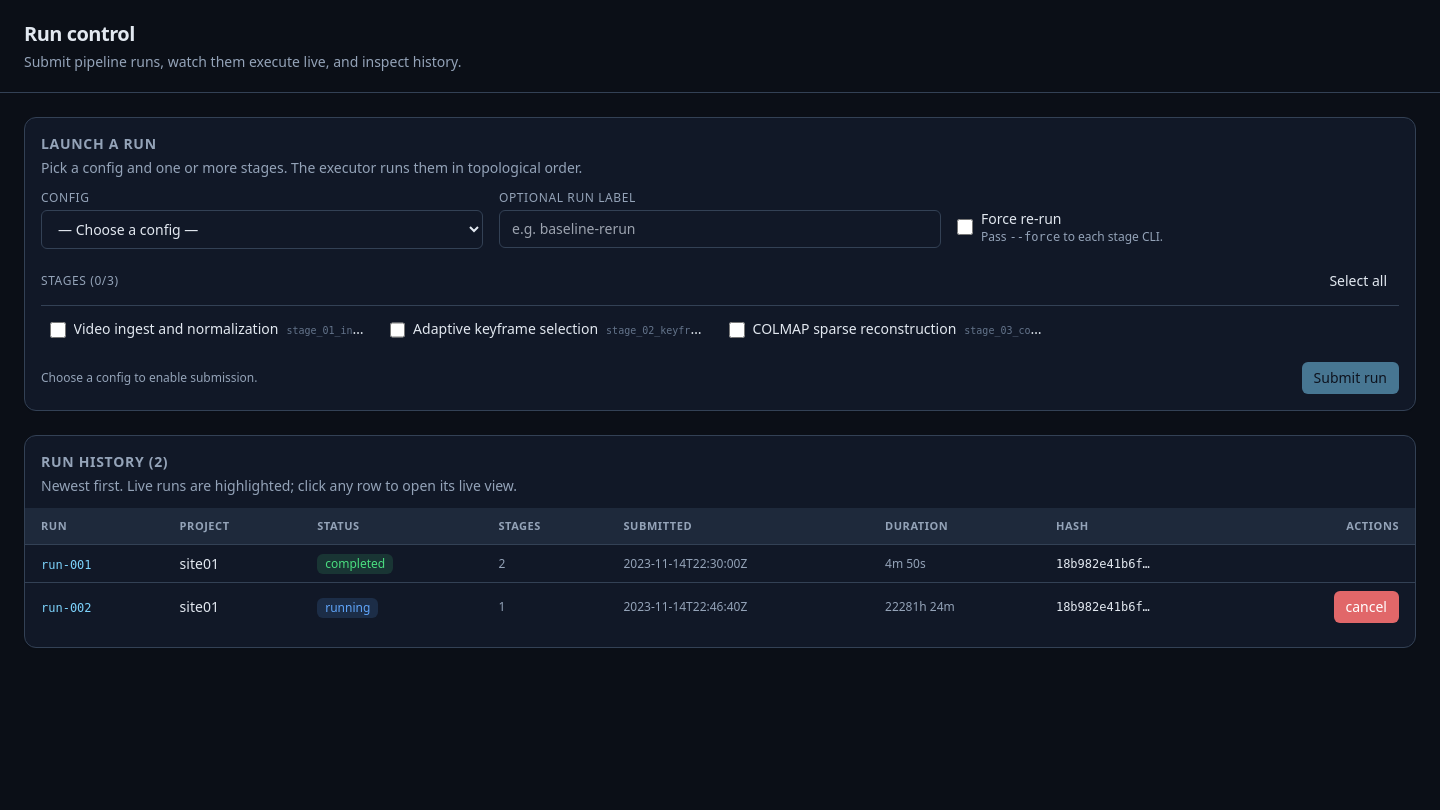
Test: <RunsPanel /> › submits a run and surfaces the new run id
Note: Wait for the config option to appear before trying to select it.
Select "site01" in the dropdown with test id "config-select" at (262, 230), box [41, 210, 483, 249]
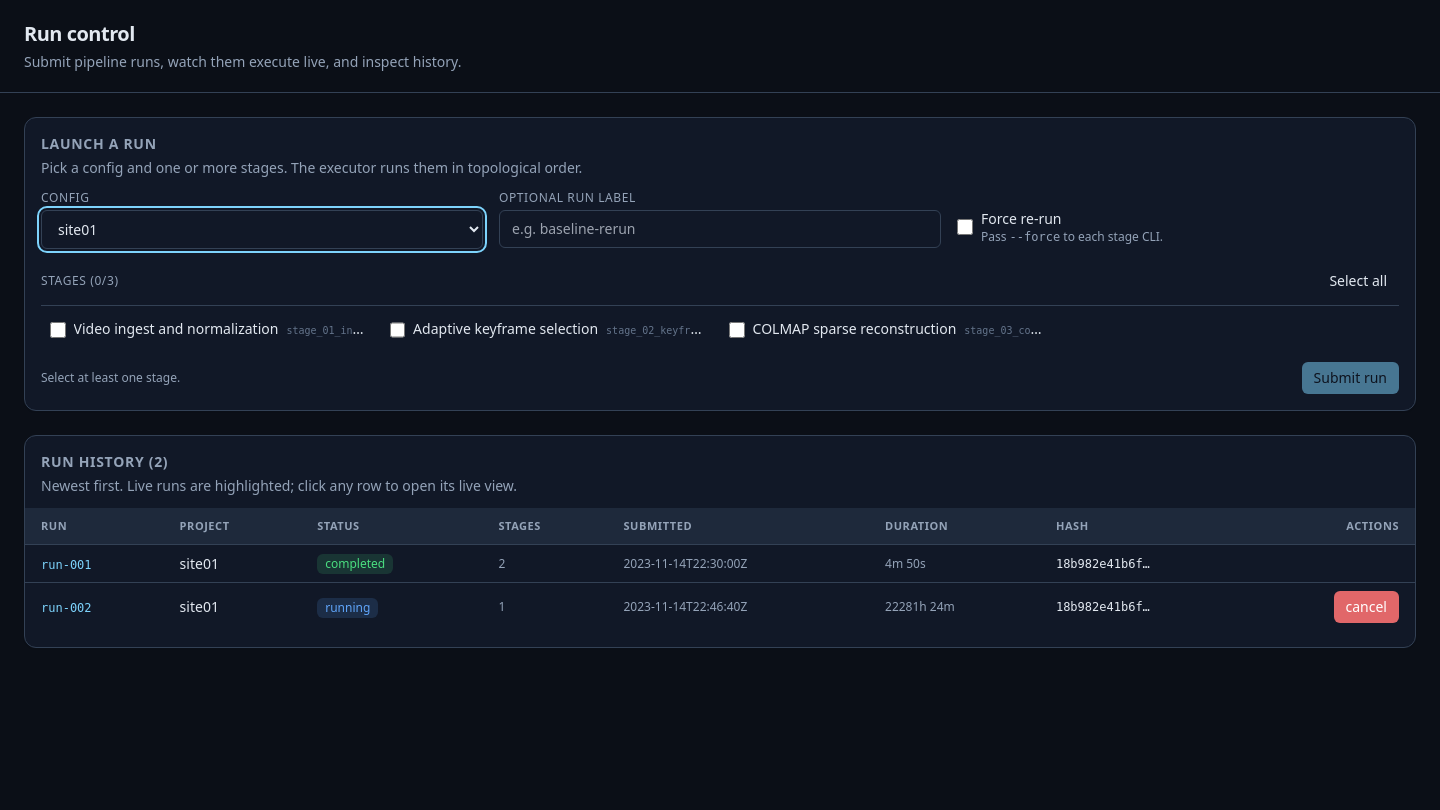
Click the checkbox with test id "stage-checkbox-stage_01_ingest".
click(58, 330)  # box [50, 322, 66, 338]
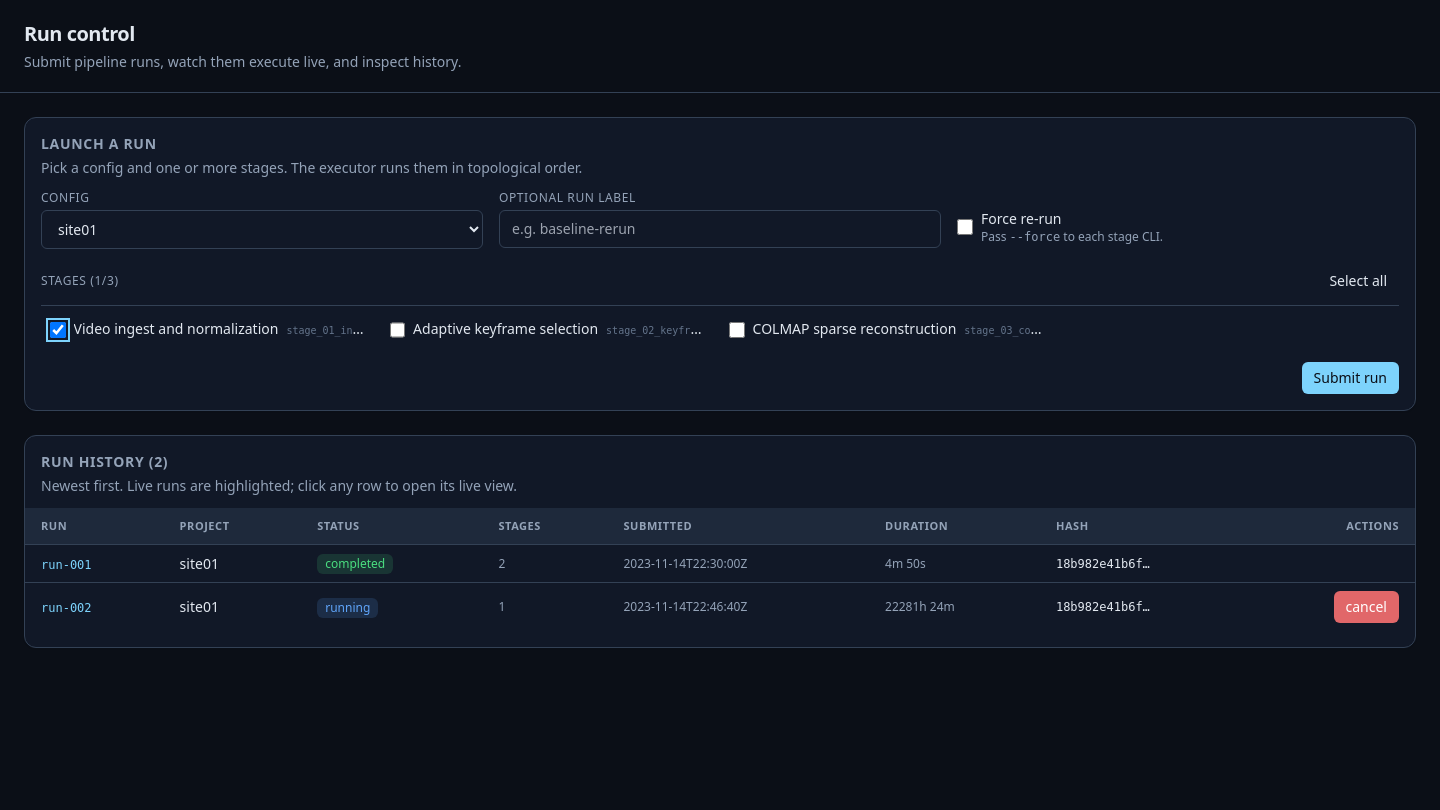
Click the button with test id "submit-run".
click(1350, 378)  # box [1302, 362, 1399, 394]
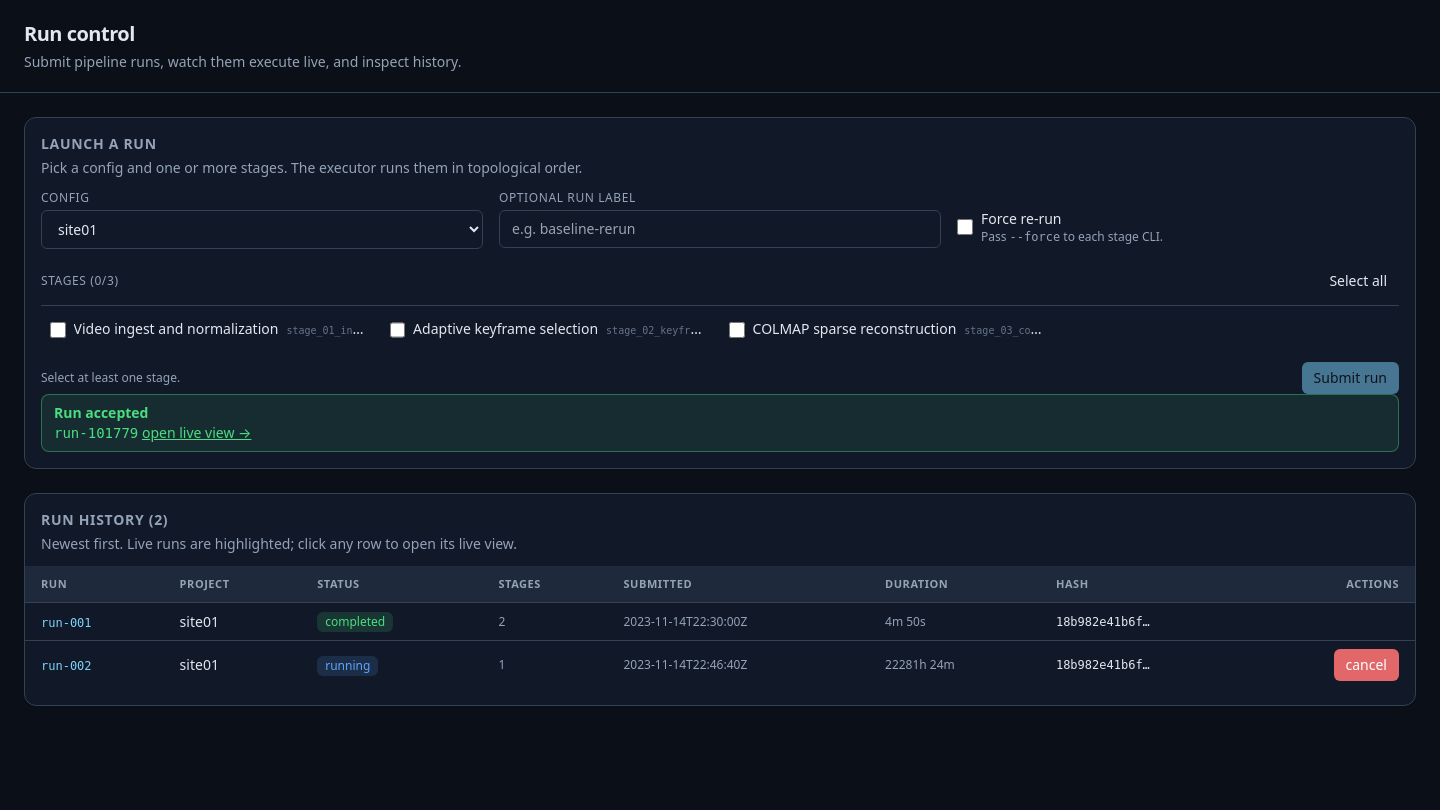
expect the text "Run accepted" is shown: met, box [54, 403, 148, 422]
